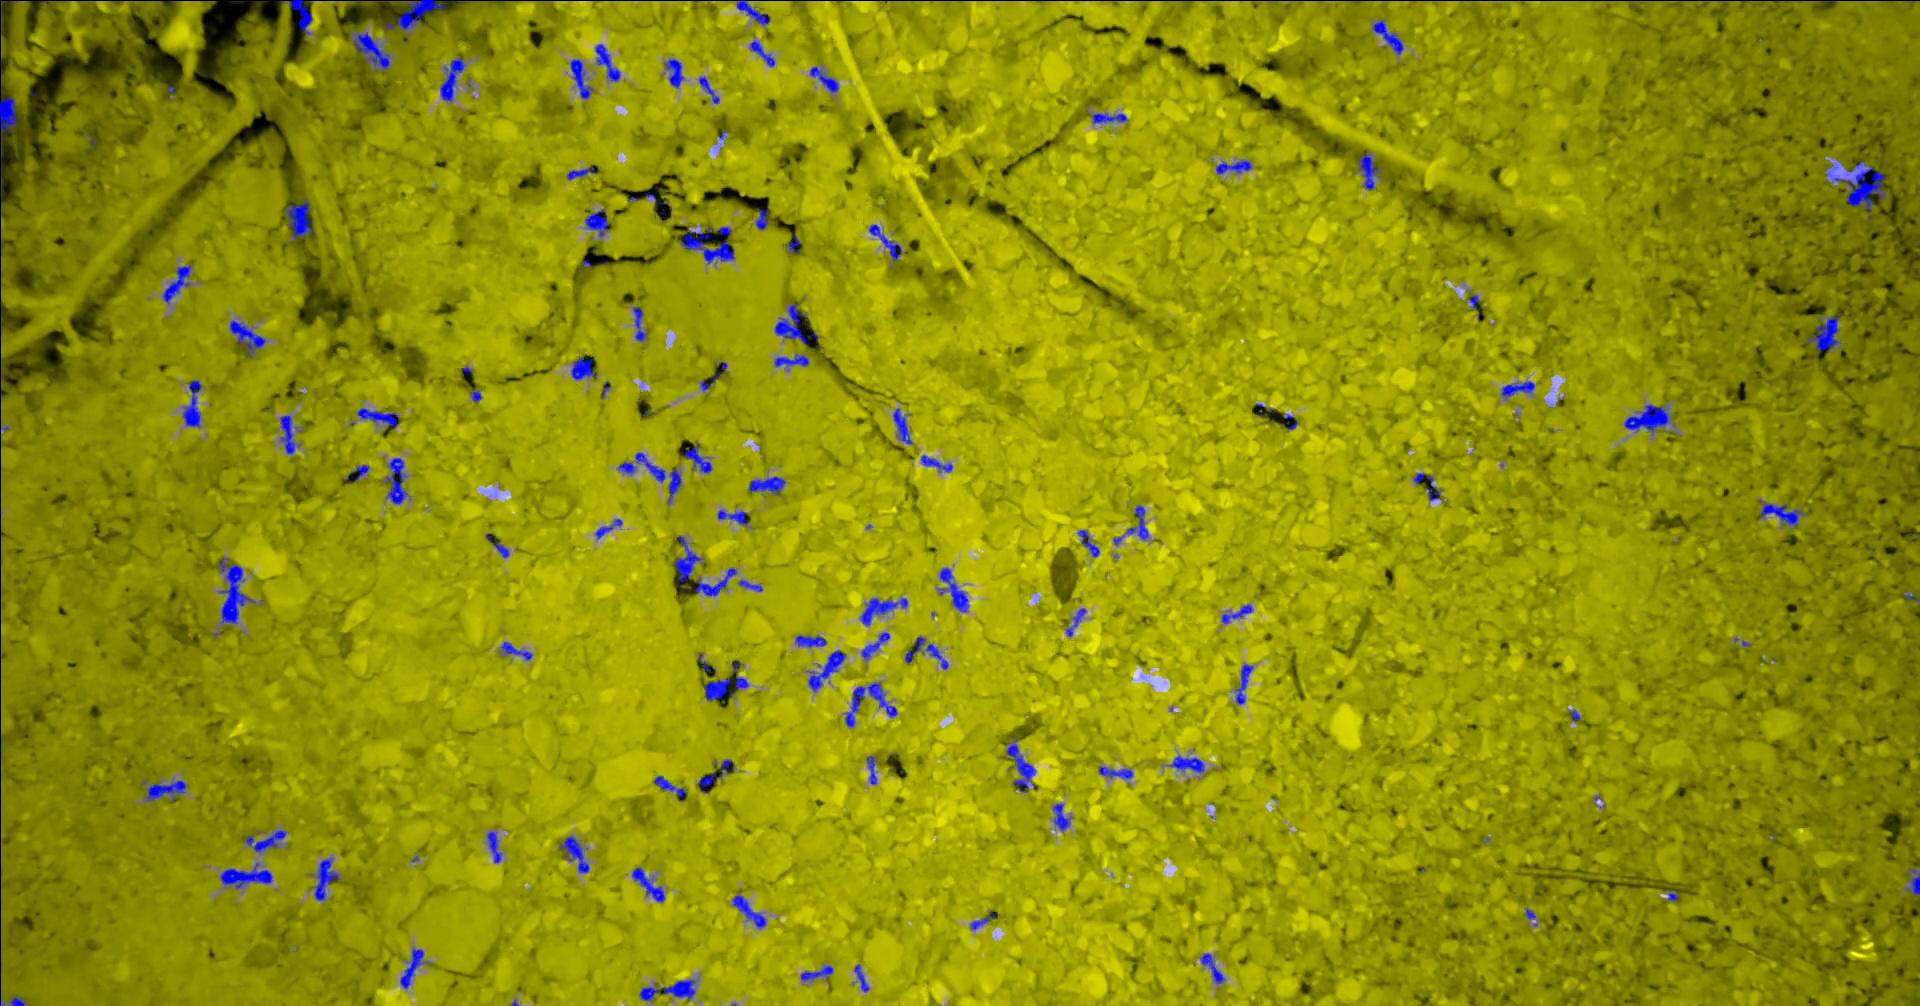ant: (617, 452, 681, 506), (217, 558, 255, 622), (370, 0, 447, 30), (844, 682, 897, 727), (679, 225, 734, 264), (1006, 735, 1035, 791), (352, 30, 389, 72), (808, 650, 844, 691), (904, 636, 949, 669), (1623, 404, 1669, 434), (229, 319, 265, 356), (218, 862, 272, 888), (860, 597, 907, 625), (938, 567, 968, 611), (775, 304, 806, 344), (674, 535, 700, 583), (695, 567, 737, 596), (869, 224, 902, 260), (696, 760, 733, 793), (639, 979, 695, 1001), (1806, 316, 1840, 351), (284, 199, 312, 241), (559, 835, 589, 873), (312, 857, 339, 901), (279, 0, 311, 36), (703, 676, 748, 701), (383, 457, 408, 503), (1759, 502, 1804, 526), (631, 868, 664, 901), (1371, 20, 1403, 55), (731, 895, 766, 927), (439, 57, 463, 102), (163, 264, 190, 302), (399, 948, 423, 988), (569, 58, 593, 98), (356, 406, 399, 428), (244, 829, 284, 852), (182, 379, 201, 427), (145, 780, 185, 801), (596, 43, 618, 81), (1357, 152, 1379, 191), (682, 445, 711, 473), (653, 775, 684, 800), (737, 0, 770, 24), (861, 631, 889, 659), (1199, 953, 1224, 983), (1125, 506, 1148, 539), (891, 406, 912, 443), (1413, 473, 1440, 500), (809, 66, 838, 91), (749, 39, 775, 66), (584, 208, 608, 236), (748, 476, 785, 494), (0, 95, 17, 133), (279, 415, 296, 453), (1236, 664, 1252, 702), (1168, 754, 1203, 772), (1077, 528, 1098, 556), (919, 453, 952, 471), (570, 356, 596, 379), (1222, 603, 1252, 622), (663, 58, 683, 86), (594, 518, 622, 539), (1065, 607, 1084, 636), (485, 533, 508, 558), (1501, 381, 1534, 398), (698, 76, 719, 103), (502, 641, 532, 659), (1051, 803, 1070, 829), (1215, 160, 1251, 174), (486, 831, 502, 862), (800, 965, 832, 981), (632, 306, 646, 340), (717, 509, 748, 525), (969, 912, 996, 929), (1090, 112, 1126, 123), (775, 353, 808, 366), (1098, 766, 1131, 779), (345, 464, 368, 481), (566, 166, 598, 179), (1465, 293, 1481, 319), (795, 634, 825, 647), (855, 964, 869, 991), (1906, 868, 1919, 895), (866, 754, 876, 782), (738, 579, 762, 591), (756, 208, 768, 229), (0, 995, 25, 1005), (786, 235, 800, 251)
